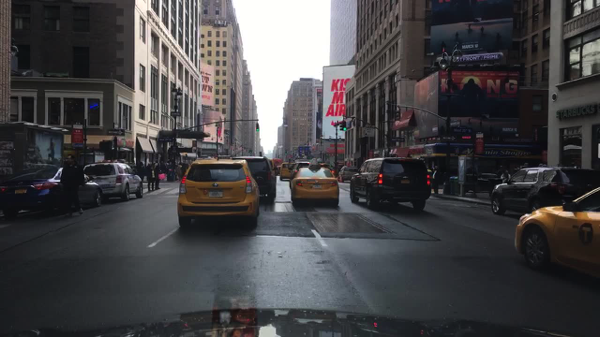car: (514, 187, 599, 281), (177, 158, 260, 228), (0, 165, 103, 220), (490, 166, 599, 216), (349, 156, 432, 211), (83, 159, 144, 202), (290, 157, 340, 207), (231, 156, 277, 204), (456, 171, 503, 193), (289, 160, 310, 181), (279, 161, 297, 181), (337, 166, 359, 182), (318, 162, 335, 175), (272, 158, 283, 174)
person: (61, 154, 88, 218), (146, 156, 156, 190), (154, 162, 165, 189), (431, 164, 441, 193), (136, 159, 145, 182), (171, 159, 178, 182), (501, 170, 511, 184), (159, 159, 165, 181), (166, 160, 171, 181), (182, 162, 189, 176), (520, 163, 528, 169), (498, 165, 503, 174)
traffic light: (98, 141, 112, 151), (394, 110, 400, 121), (342, 120, 346, 131), (255, 123, 259, 132), (338, 121, 342, 130)
traffic sign: (71, 122, 84, 148), (108, 128, 125, 136), (157, 136, 173, 143), (441, 135, 456, 142), (364, 128, 375, 136), (390, 138, 404, 141), (171, 112, 181, 116), (318, 145, 324, 151), (224, 144, 229, 149)
